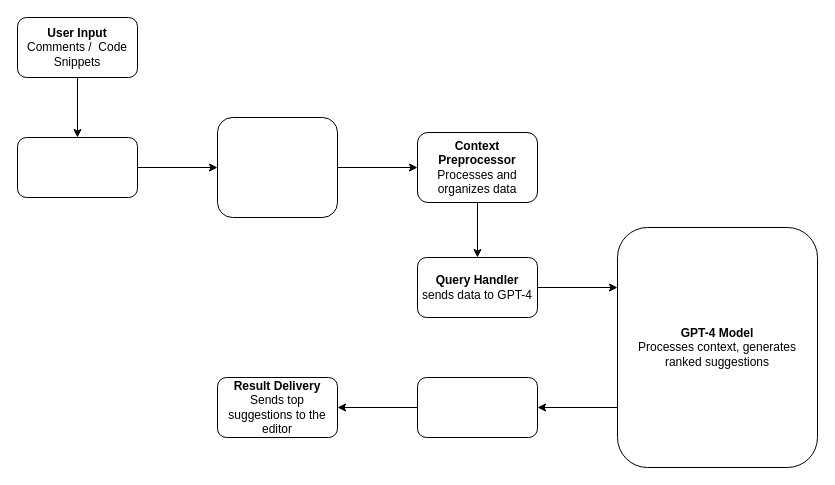
Image size: 835x485. Some labels were removed from this diagram. The shapes that lost their labels are listed below. From the top down, each one's centre as x and y in pixels, then its label:
(x=77, y=167): IDE Plugins VS Code, JetBrains
(x=277, y=167): Context Collector Data sources Current file, open files, Project files
(x=477, y=407): Suggestion Ranking Ranks by relevance
